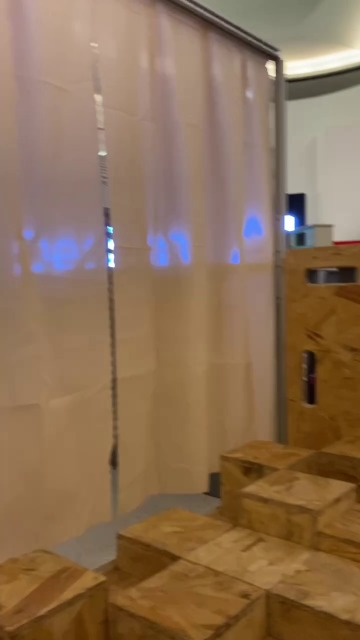curtain: (0, 0, 288, 506)
